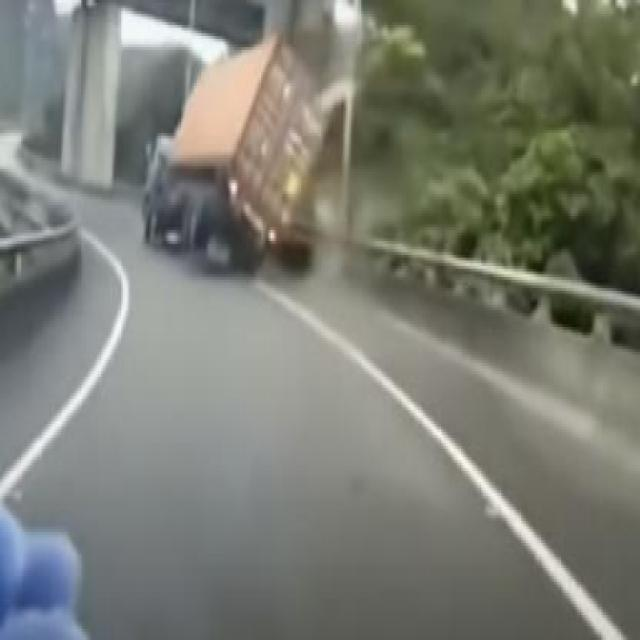accident: (137, 22, 334, 283)
